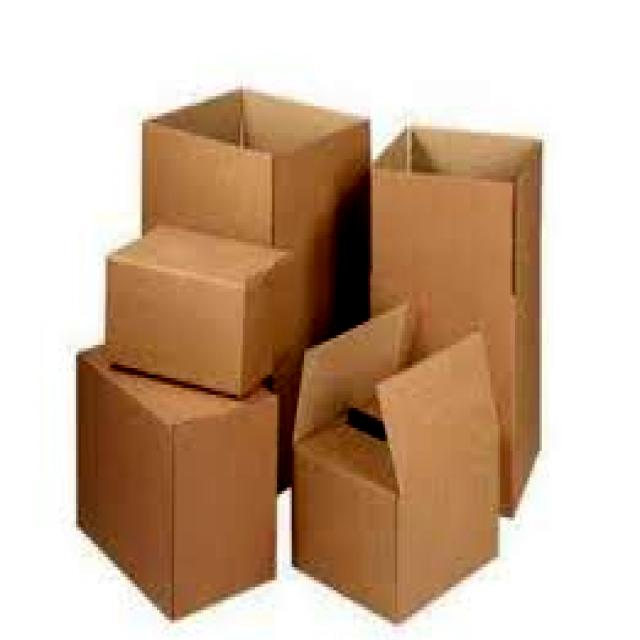Cardboard: (368, 124, 540, 463), (73, 345, 277, 619), (295, 345, 499, 590), (145, 91, 366, 249), (108, 220, 294, 395)
